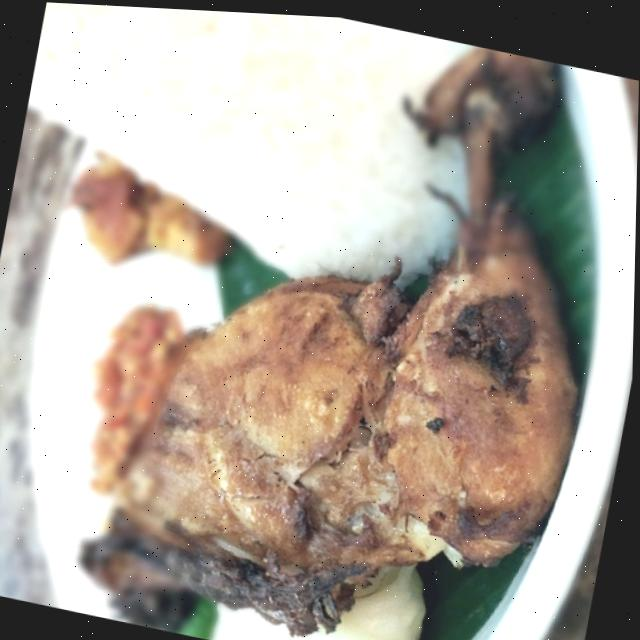鸡肉料理 含炸鸡: (18, 137, 614, 640)
